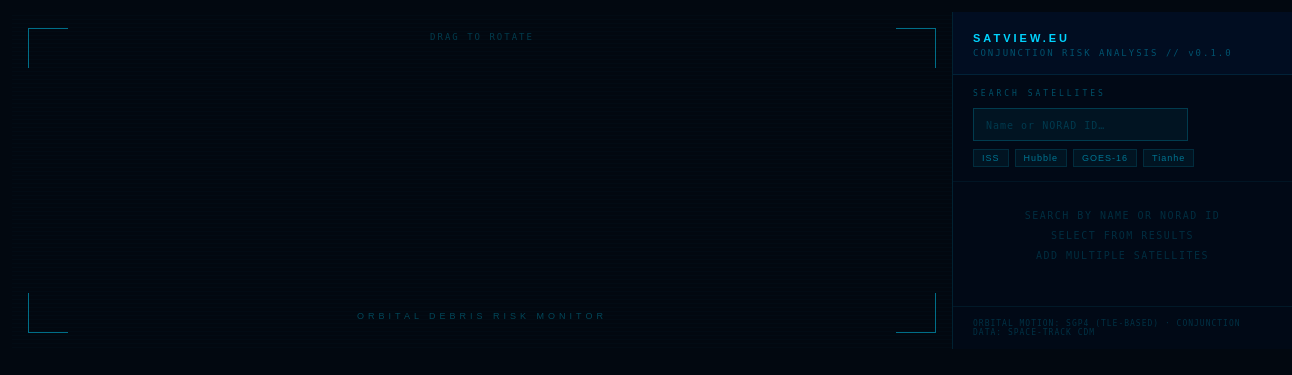
Test: loadAndTrack error handling › shows generic fallback error when interceptor error has no message
Type "r2" into the field with placeholder "Name or NORAD ID…" at (1080, 124), box [973,108,1188,141]
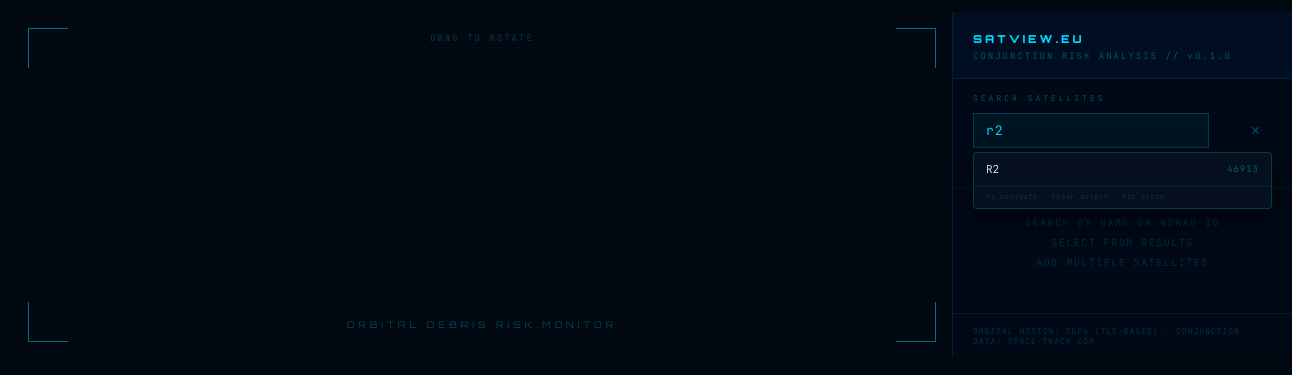
Click the option "R2 46913" at (1243, 169), box [974,153,1271,186]
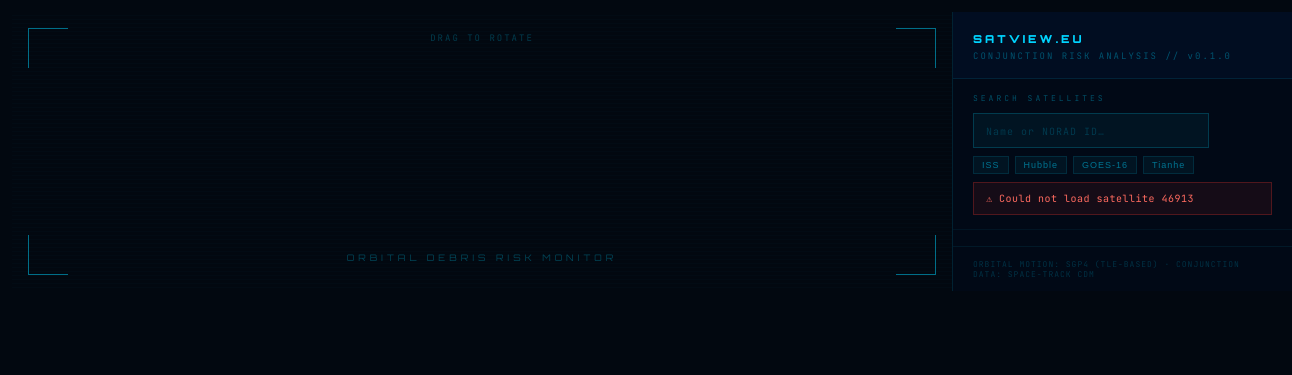
Expected: the text "⚠ Could not load satellite 46913" is shown, [973,182,1272,215]
